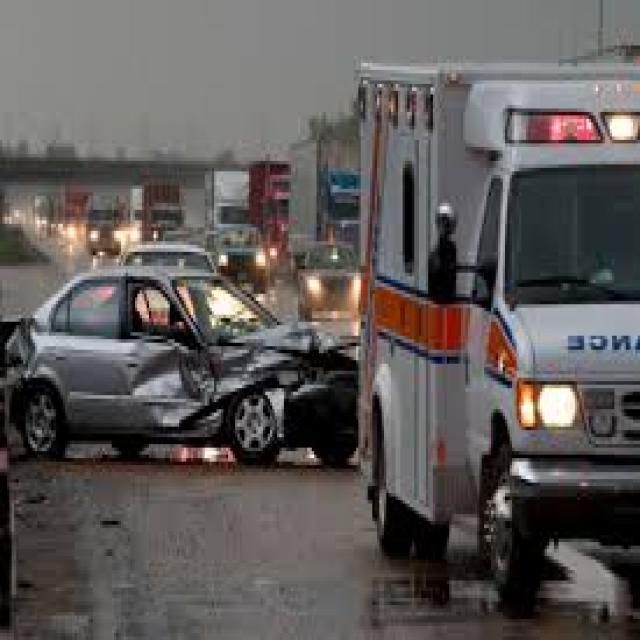accident: (18, 254, 362, 477)
